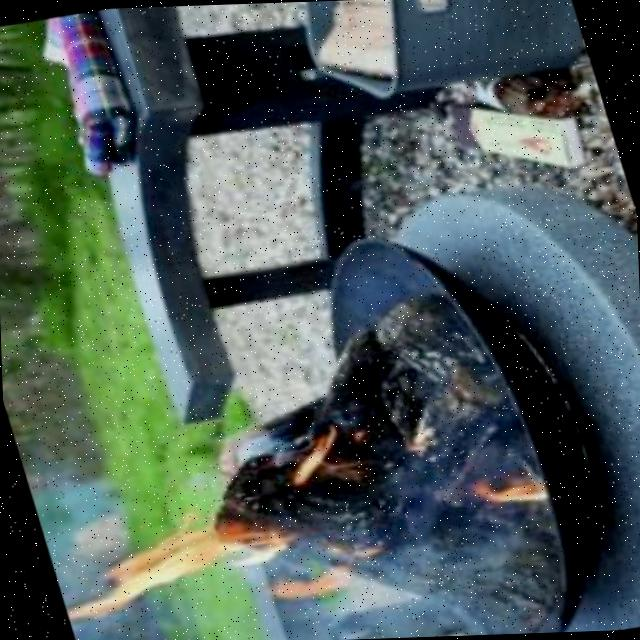fire: (57, 495, 282, 625), (456, 457, 552, 518)
